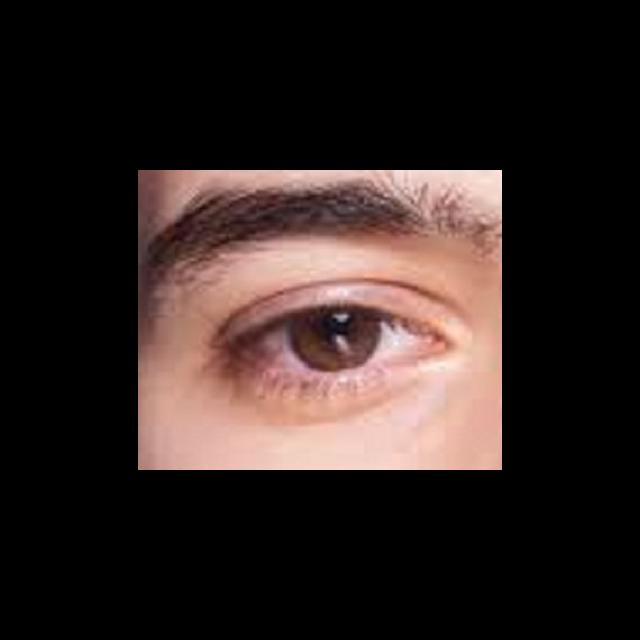eye: (248, 306, 433, 375)
iris: (288, 311, 381, 372)
